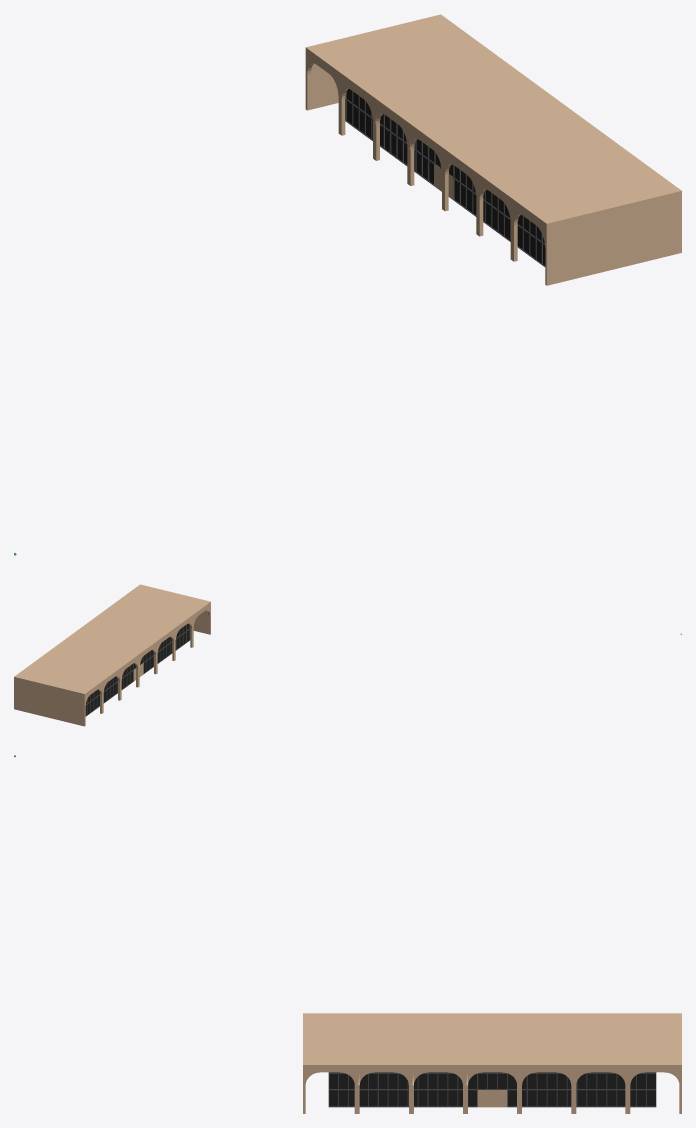
The model's file is kkkkk.glb.
3 renders of one model, top to bottom at view 1: azimuth 30°, elevation 25°; view 2: azimuth 150°, elevation 25°; view 3: azimuth 270°, elevation 25°, orthographic. The views are drawn at different scales.
Visible parts, largest first — view 1: rectorat; view 2: rectorat; view 3: rectorat.
Part boxes in pixels (x1=…): rectorat: x1=305, y1=14, x2=681, y2=285; rectorat: x1=14, y1=584, x2=210, y2=726; rectorat: x1=303, y1=1013, x2=681, y2=1113.
Bounding box in the file's own units: 284 × 19.8 × 246.
Materials: 1 (1 with a texture image).
